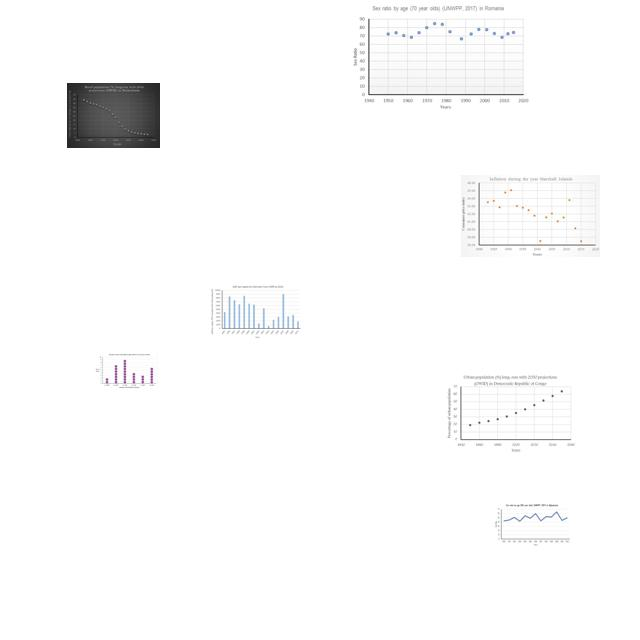Graph: (347, 1, 531, 110), (461, 175, 600, 257), (446, 373, 576, 453), (67, 83, 160, 148), (210, 284, 302, 339), (494, 503, 571, 547), (94, 353, 158, 389)
